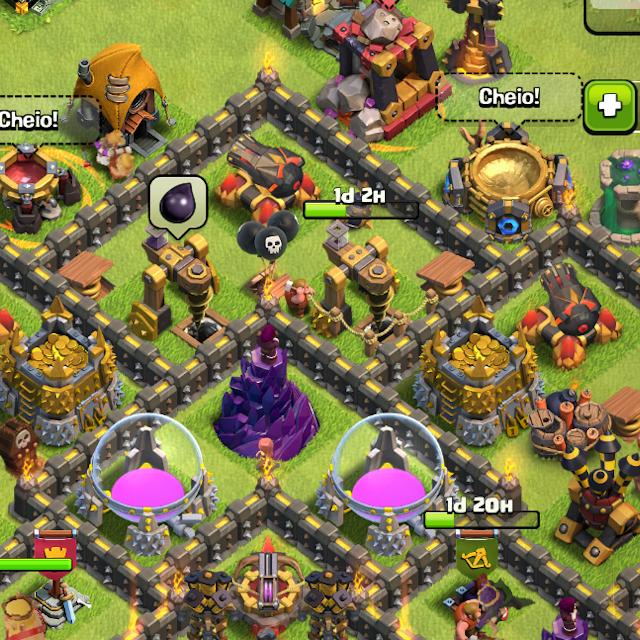ElixirNegro: (148, 175, 208, 236)
